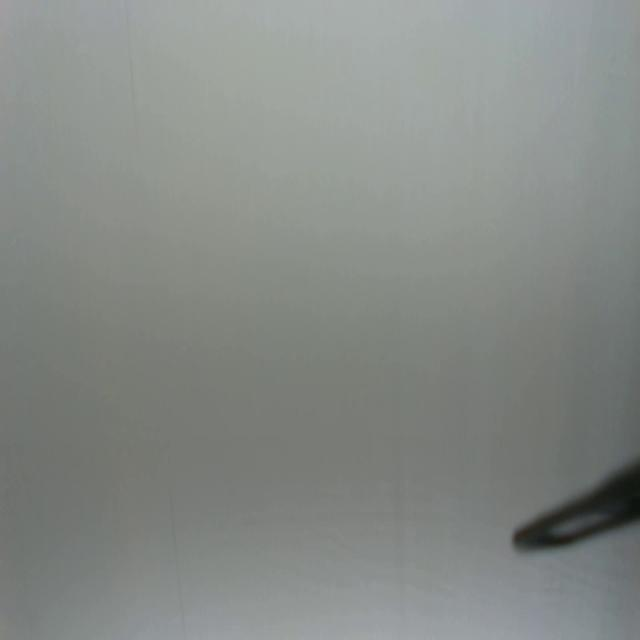crease: (170, 495, 186, 636), (125, 0, 141, 129)
